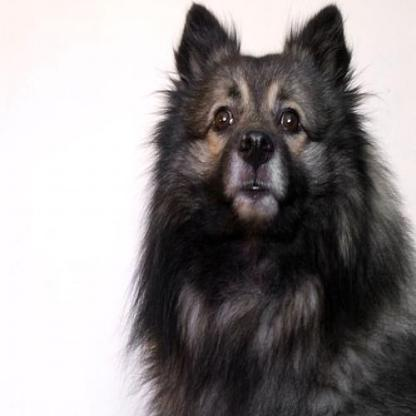keeshond: (126, 0, 414, 414)
